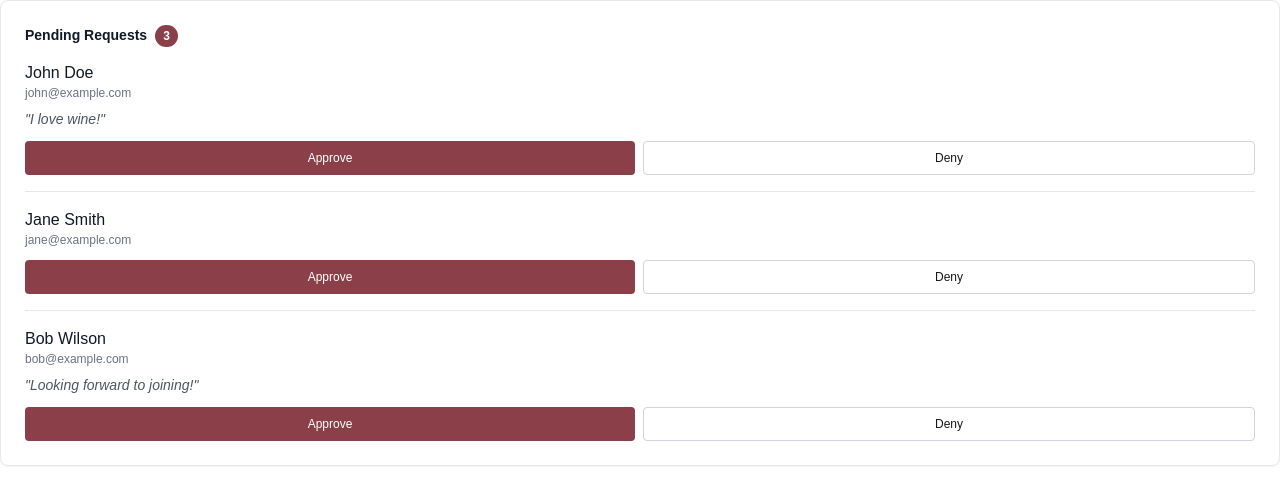
PendingRequestsCard - Approve/Deny Button States › Approve Button States › should remove approved request from list
The image size is (1280, 483).
Check: the text "John Doe" is shown, box [25, 64, 94, 81]
What coordinates should you click on to do the following:
click the button "Approve" below "I love wine!"
I would click on:
 (330, 158)
Its box is [25, 141, 635, 175].
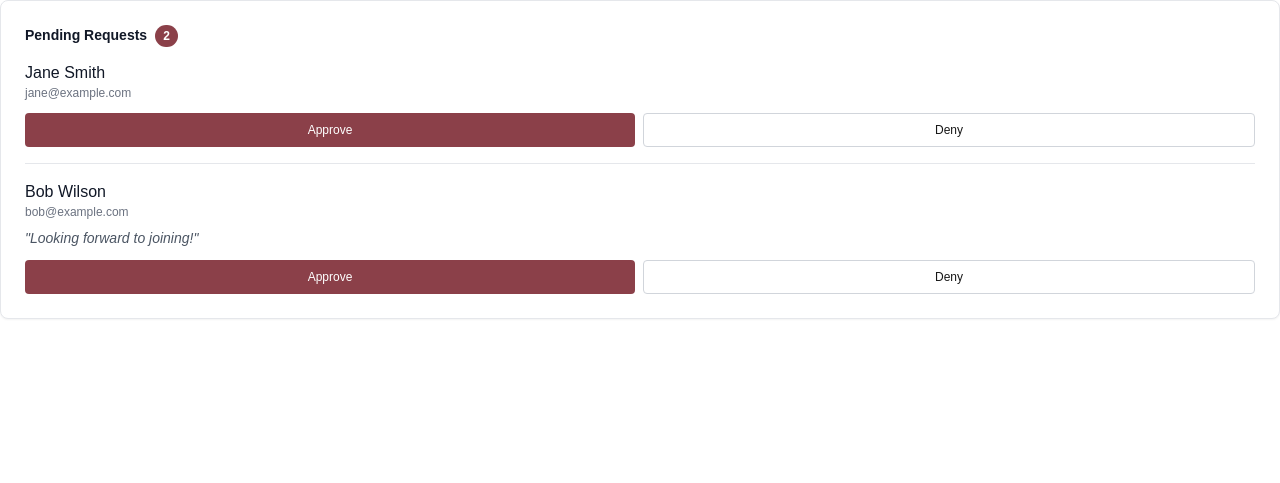
Check: the text "Jane Smith" is shown, box [25, 64, 105, 81]
Check: the text "John Doe" is gone
